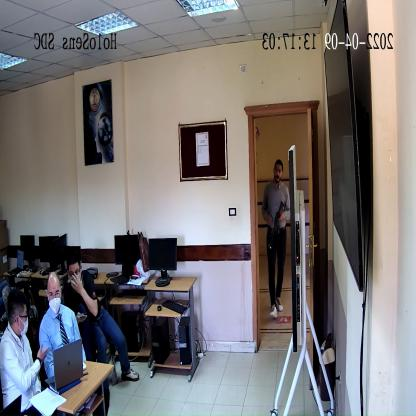handgun: (268, 200, 284, 253)
